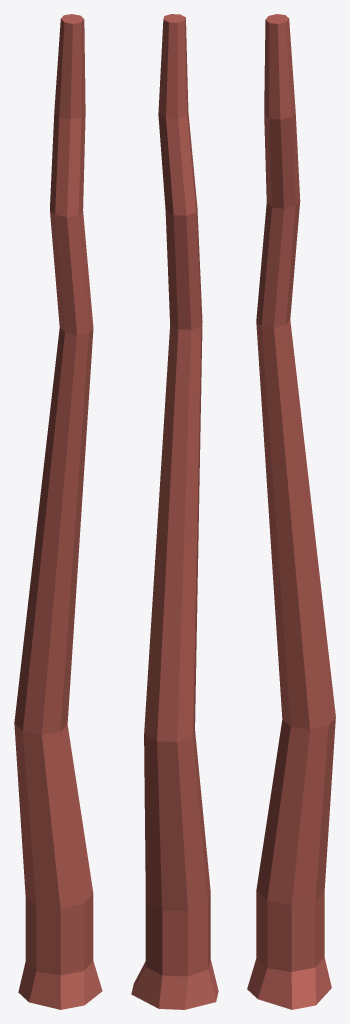
Rendered from Tree7_winter.FBX.
3 renders of one model, left to right at view 1: azimuth 90°, elevation 25°; view 2: azimuth 150°, elevation 25°; view 3: azimuth 270°, elevation 25°, orthographic.
Visible parts, largest first — view 1: tree7.001; view 2: tree7.001; view 3: tree7.001.
Boxes of the visible parts, x1=… form: tree7.001: x1=14, y1=14, x2=102, y2=1009; tree7.001: x1=131, y1=14, x2=218, y2=1009; tree7.001: x1=247, y1=14, x2=335, y2=1009.
Bounding box in the file's own units: 0.7546 × 8.65 × 0.7145.
